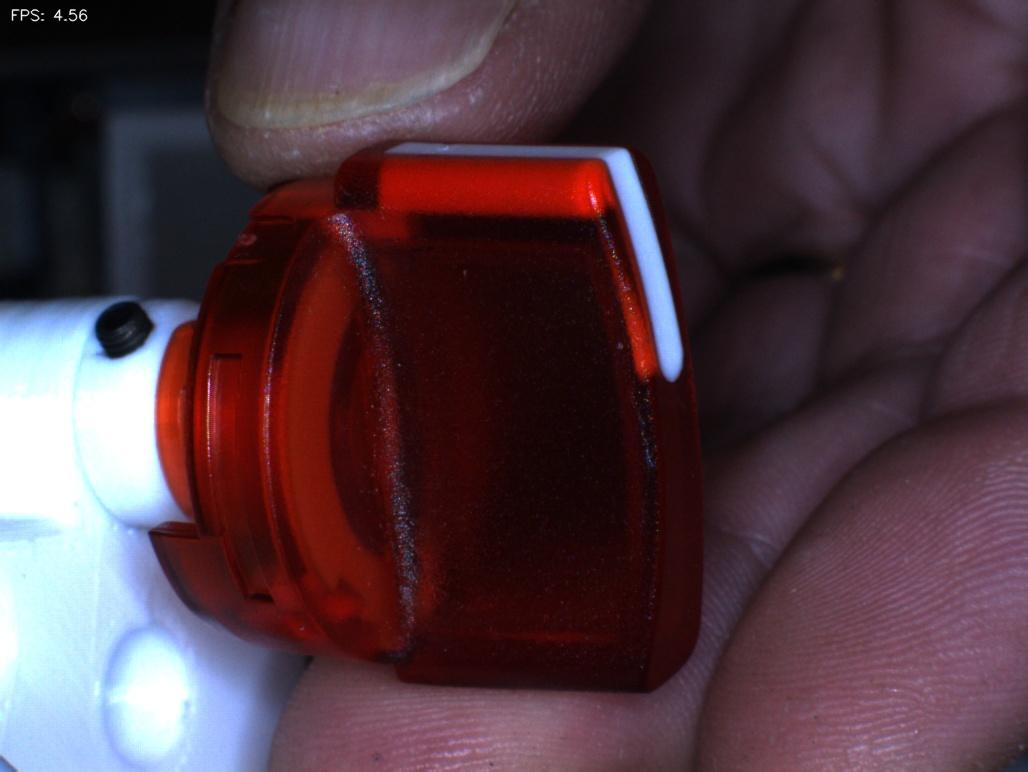Givrage: (616, 386, 667, 501)
